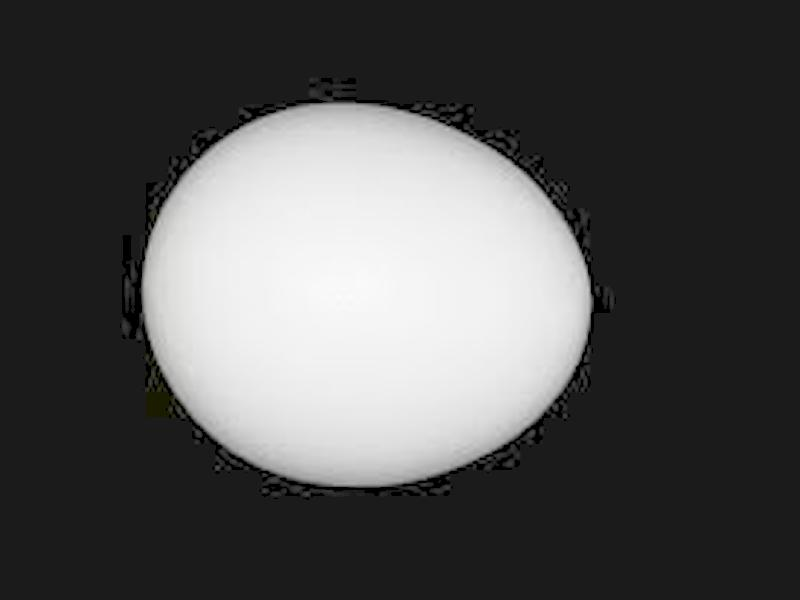Eggs: (145, 104, 586, 486)
